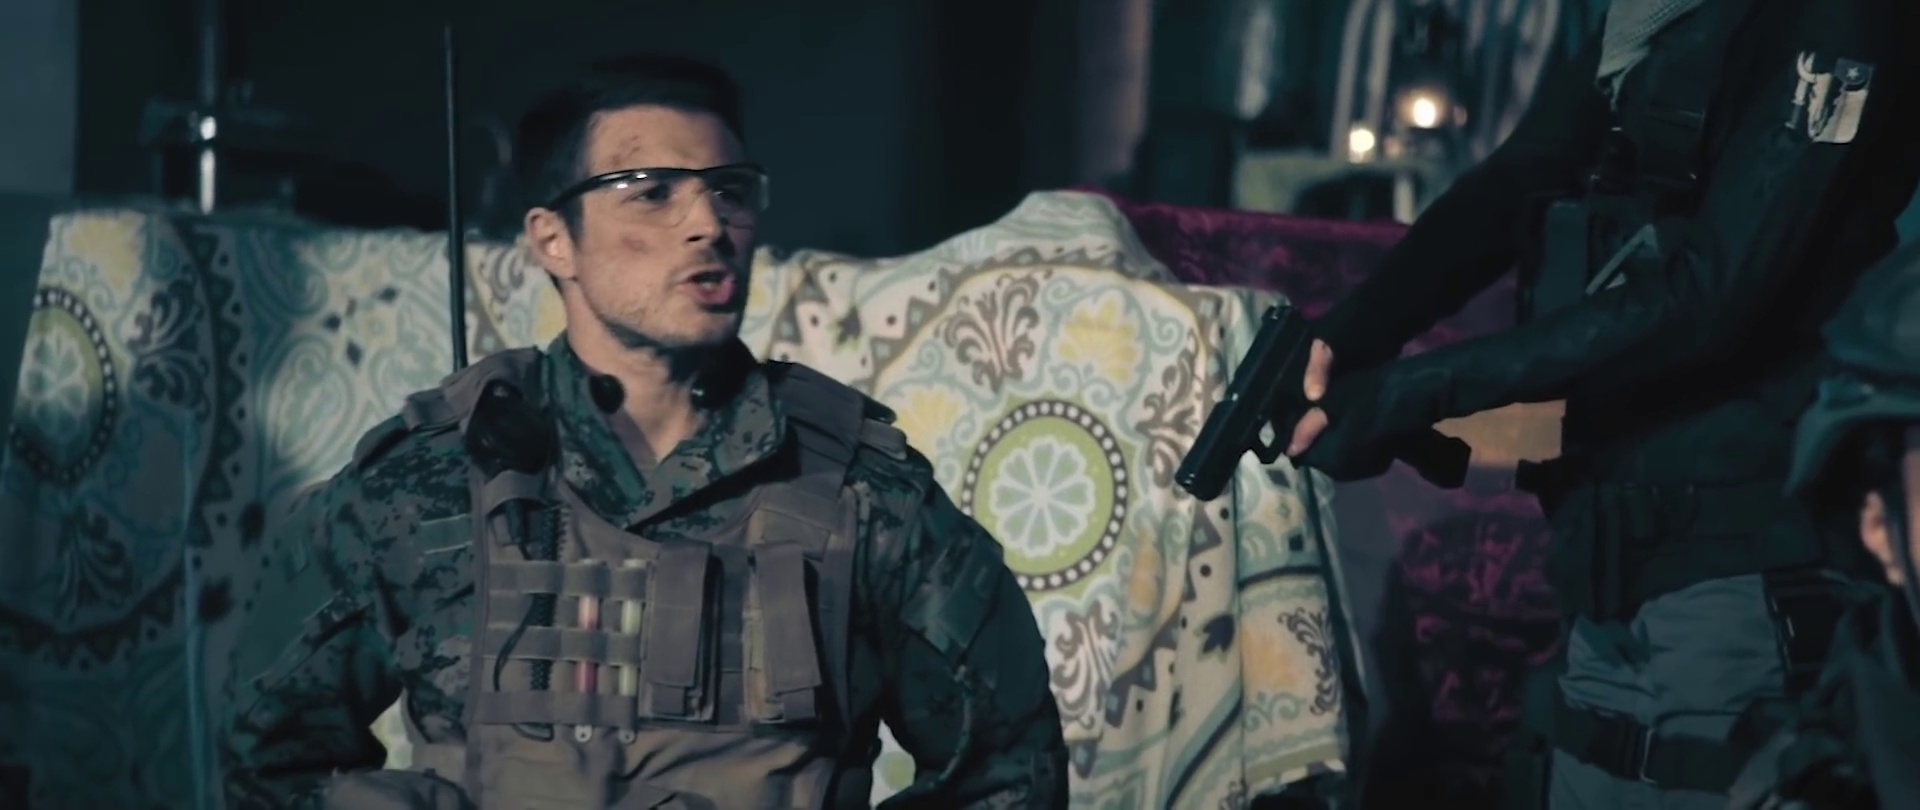gun: (1169, 285, 1485, 504)
p_w_gun: (1150, 0, 1913, 809)
p_wo_gun_not_carrying_normal_pose: (214, 33, 1078, 810)
